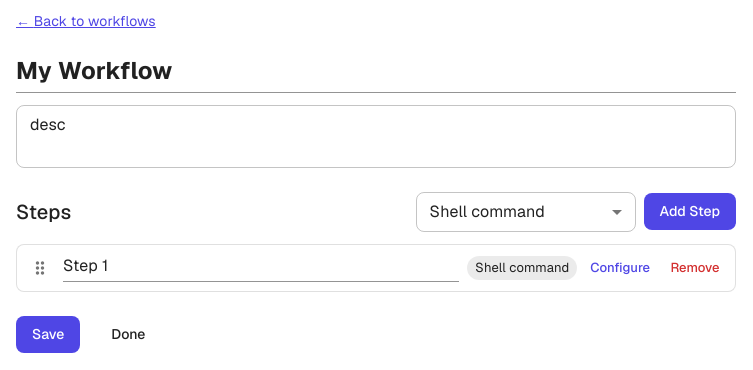
Test case: WorkflowEditor page › edits a step's name in place
Type "!" into the field showing "Step 1" next to "Shell command" at (261, 268), box [63, 253, 459, 282]
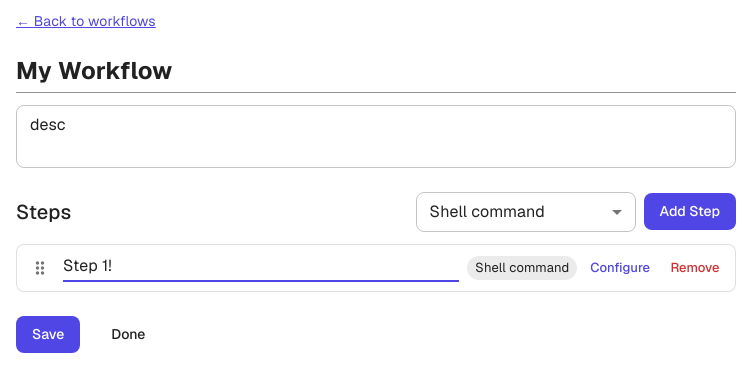
Result: the field showing "Step 1!" next to "Shell command" is shown at [63, 253, 459, 282]
